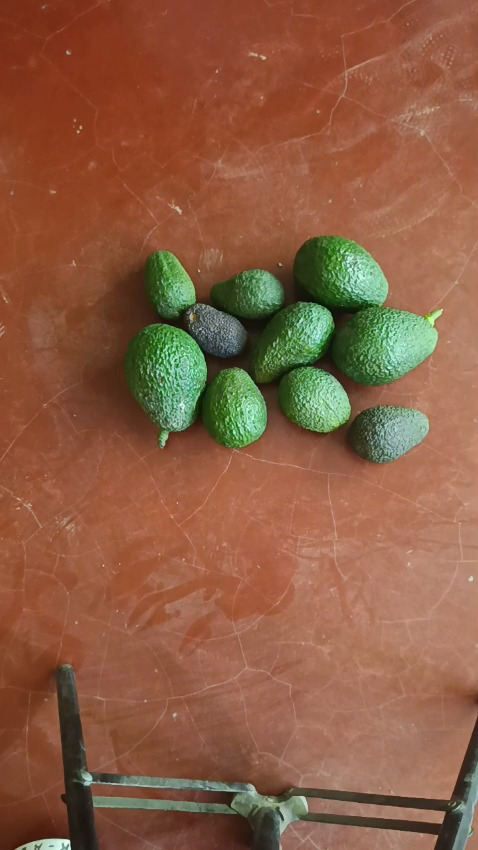Primera: (123, 323, 207, 443), (331, 305, 440, 386)
Segunda: (293, 236, 389, 313), (250, 302, 335, 384)
Tercera: (202, 367, 267, 448), (277, 365, 351, 432), (347, 405, 430, 463), (180, 303, 248, 360), (211, 269, 285, 321), (144, 250, 196, 322)
